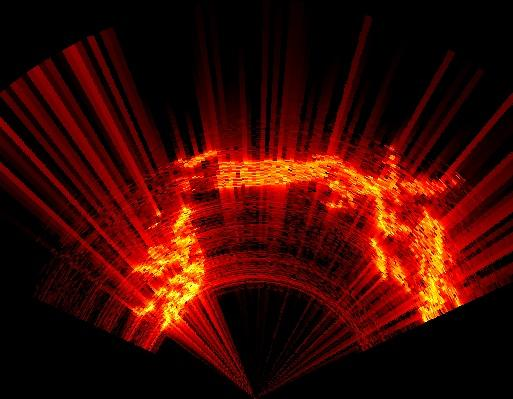shipwreck: (218, 155, 461, 321), (131, 206, 205, 331)
